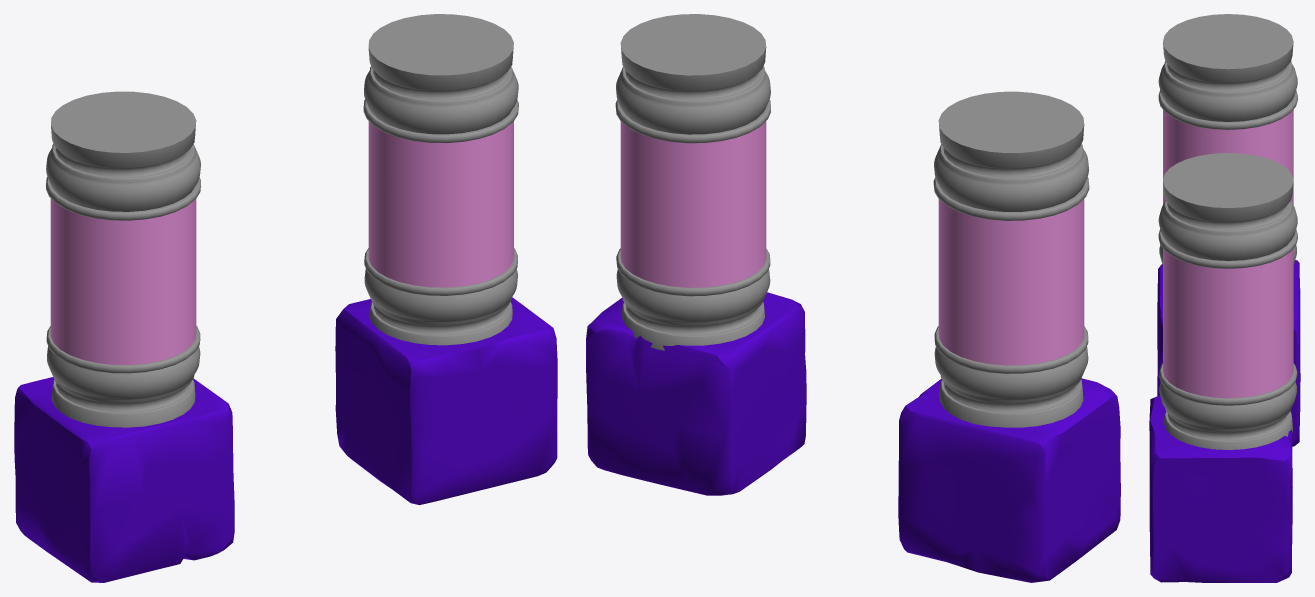
The model's file is Door_back.fbx.
3 views of the same model, side by side, from view 1: azimuth 30°, elevation 25°; view 2: azimuth 150°, elevation 25°; view 3: azimuth 270°, elevation 25° (orthographic). The views are drawn at different scales.
Parts seen in each view (by area): view 1: Object002; view 2: Object002; view 3: Object002.
Boxes of the visible parts, x1,y1,x2,y2 form: Object002: (14, 14, 557, 582); Object002: (586, 14, 1120, 582); Object002: (1149, 14, 1300, 582).
Bounding box in the file's own units: 5.03 × 4.33 × 1.58.
